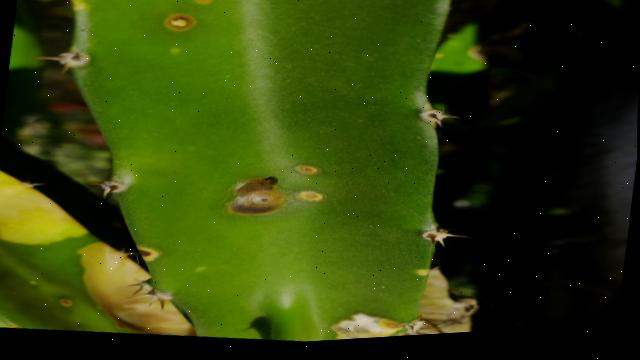stemcanker: (225, 176, 289, 216), (291, 187, 329, 206), (161, 13, 197, 33), (293, 161, 323, 180), (135, 244, 161, 263)
